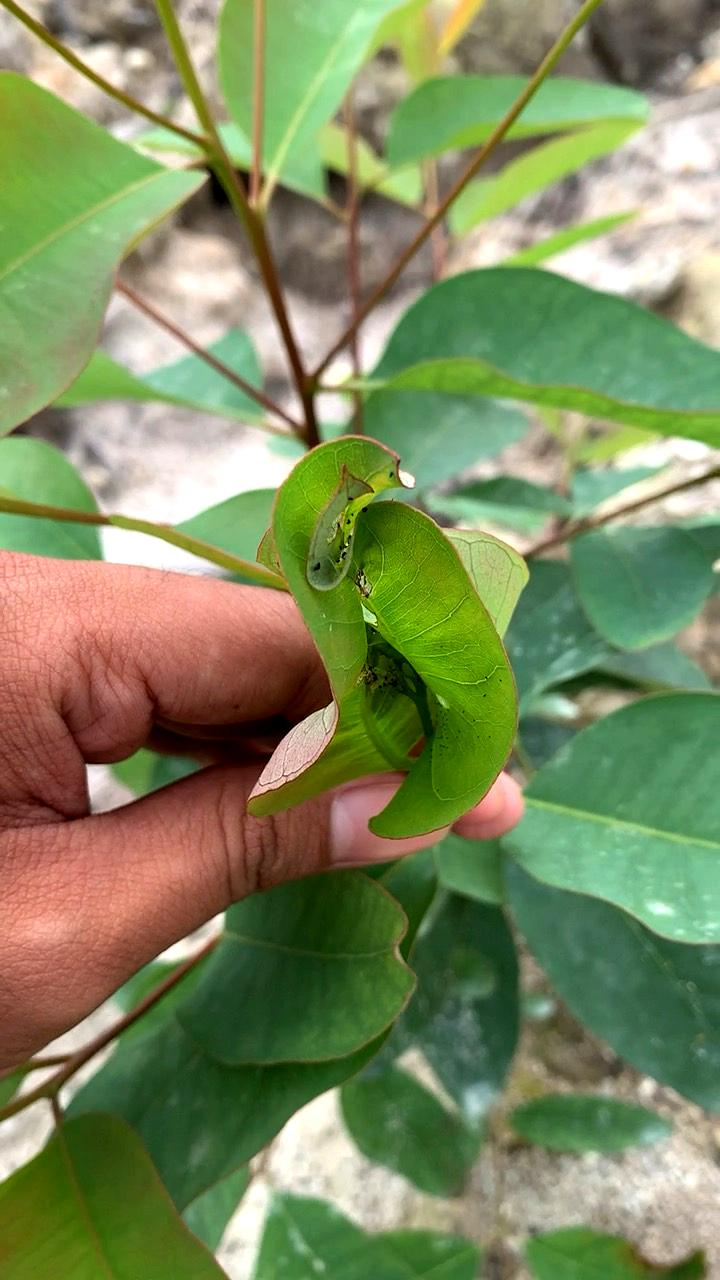Leaf Roller - Leaf: (246, 418, 541, 876)
